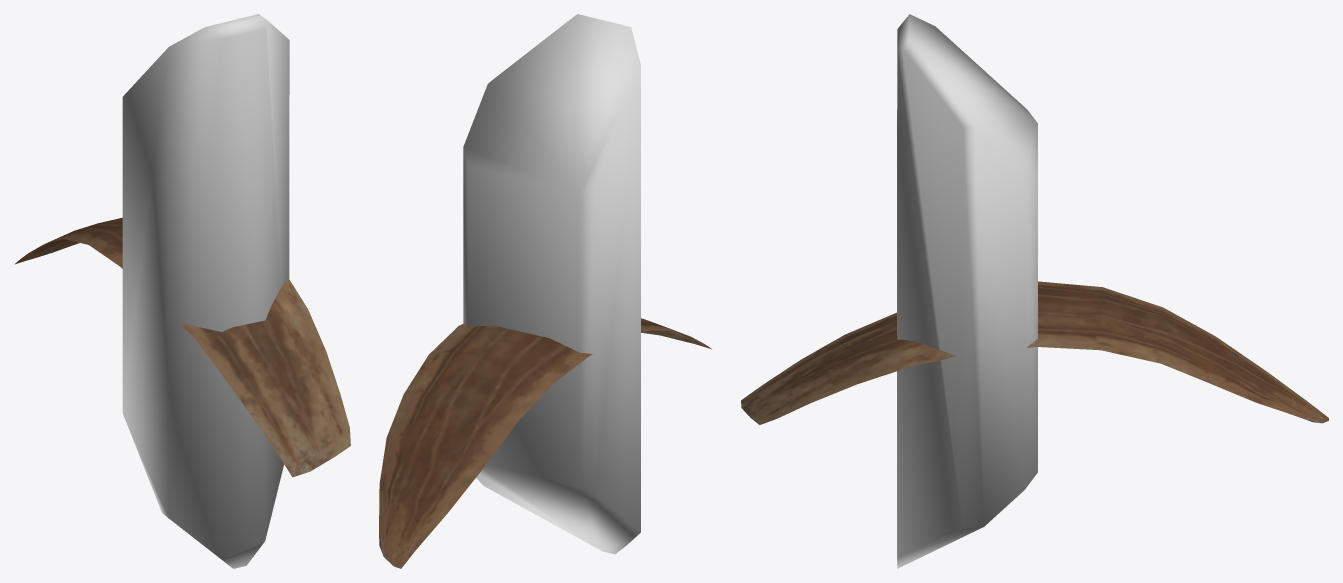
The model's file is SM_Coir_Bent__Plane_018.fbx.
3 views of the same model, side by side, from view 1: azimuth 30°, elevation 25°; view 2: azimuth 150°, elevation 25°; view 3: azimuth 270°, elevation 25° (orthographic).
Visible parts, largest first — view 1: SM_Coir_Bent__Plane_018_ConvexHulls, SM_Coir_Bent__Plane_018; view 2: SM_Coir_Bent__Plane_018_ConvexHulls, SM_Coir_Bent__Plane_018; view 3: SM_Coir_Bent__Plane_018_ConvexHulls, SM_Coir_Bent__Plane_018.
Part boxes in pixels (<box>): SM_Coir_Bent__Plane_018_ConvexHulls: <box>122,14,289,568</box>; SM_Coir_Bent__Plane_018: <box>14,217,350,477</box>; SM_Coir_Bent__Plane_018_ConvexHulls: <box>463,14,640,554</box>; SM_Coir_Bent__Plane_018: <box>379,318,711,568</box>; SM_Coir_Bent__Plane_018_ConvexHulls: <box>897,14,1037,568</box>; SM_Coir_Bent__Plane_018: <box>741,281,1328,424</box>.
Bounding box in the file's own units: 0.1173 × 0.4524 × 0.4483.
